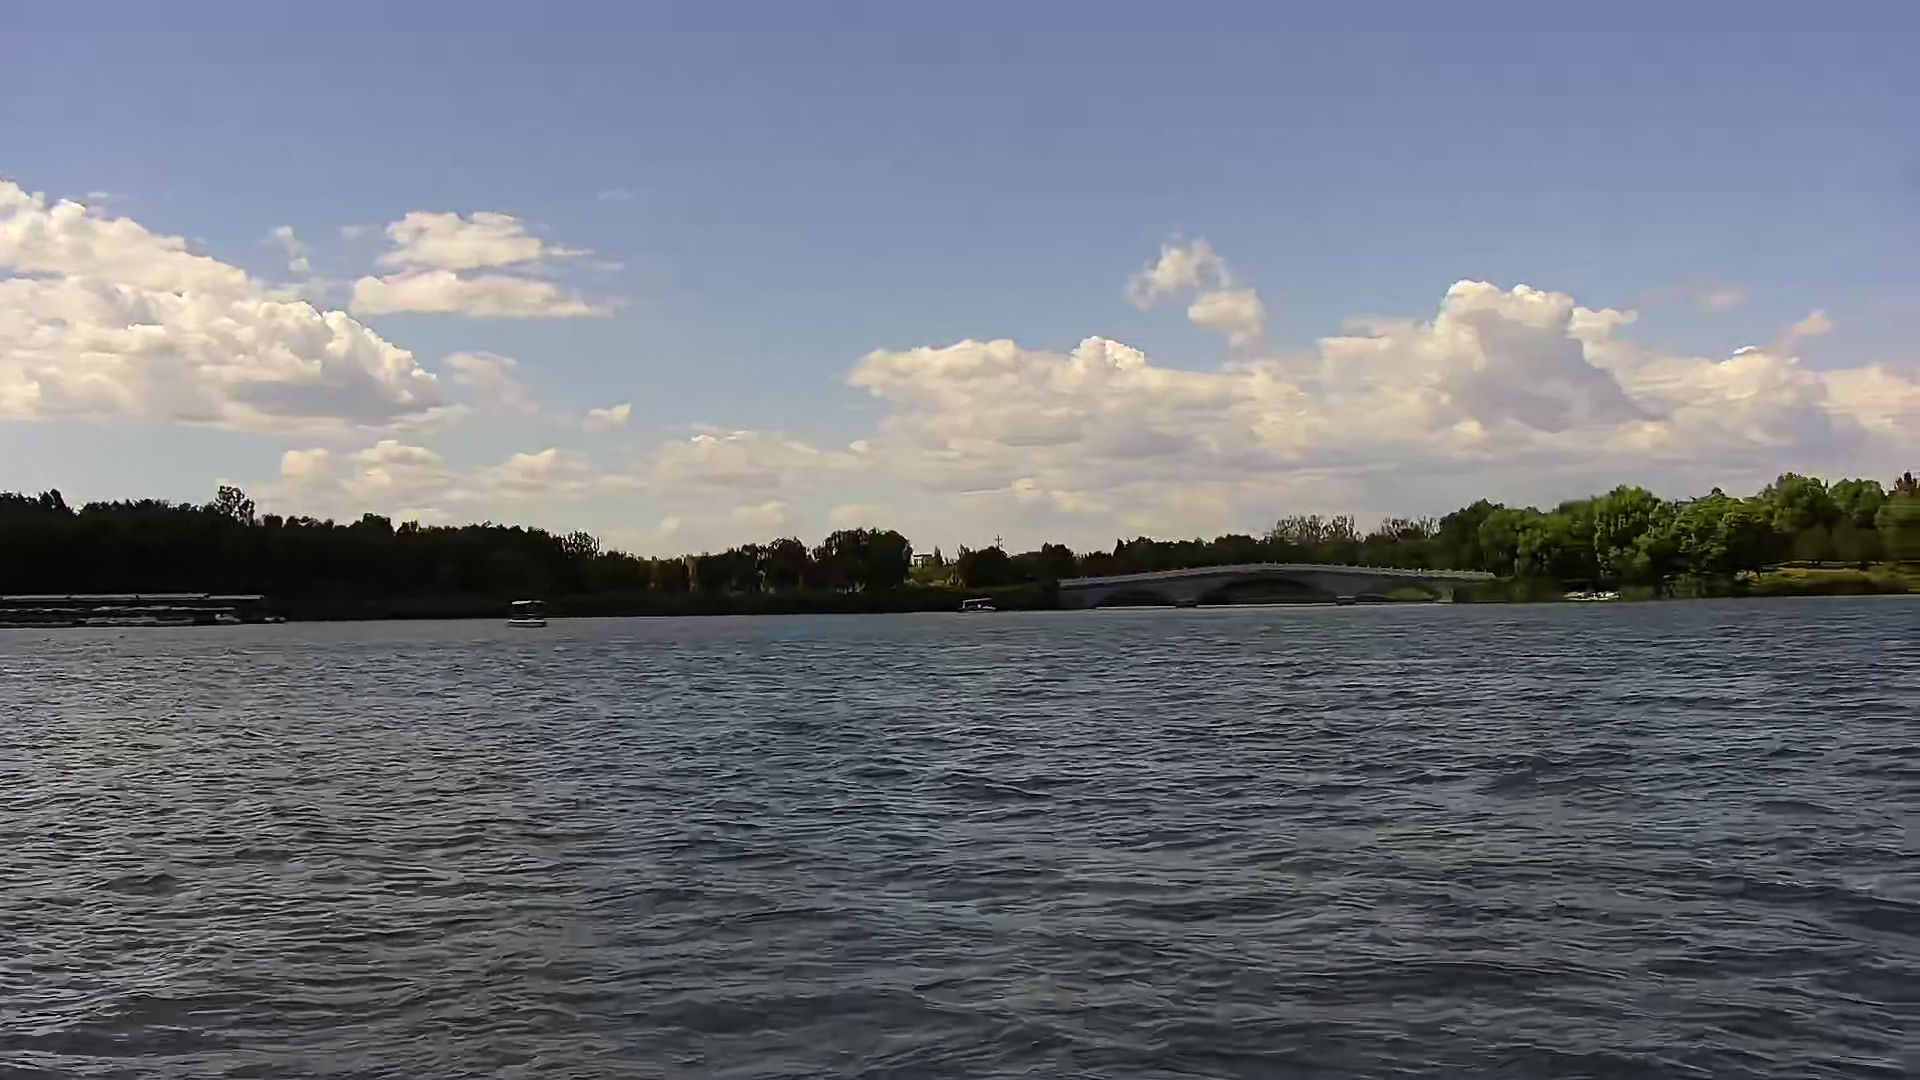boat: (500, 589, 553, 637)
bridge: (1058, 556, 1499, 611)
harbor: (1, 589, 284, 637)
